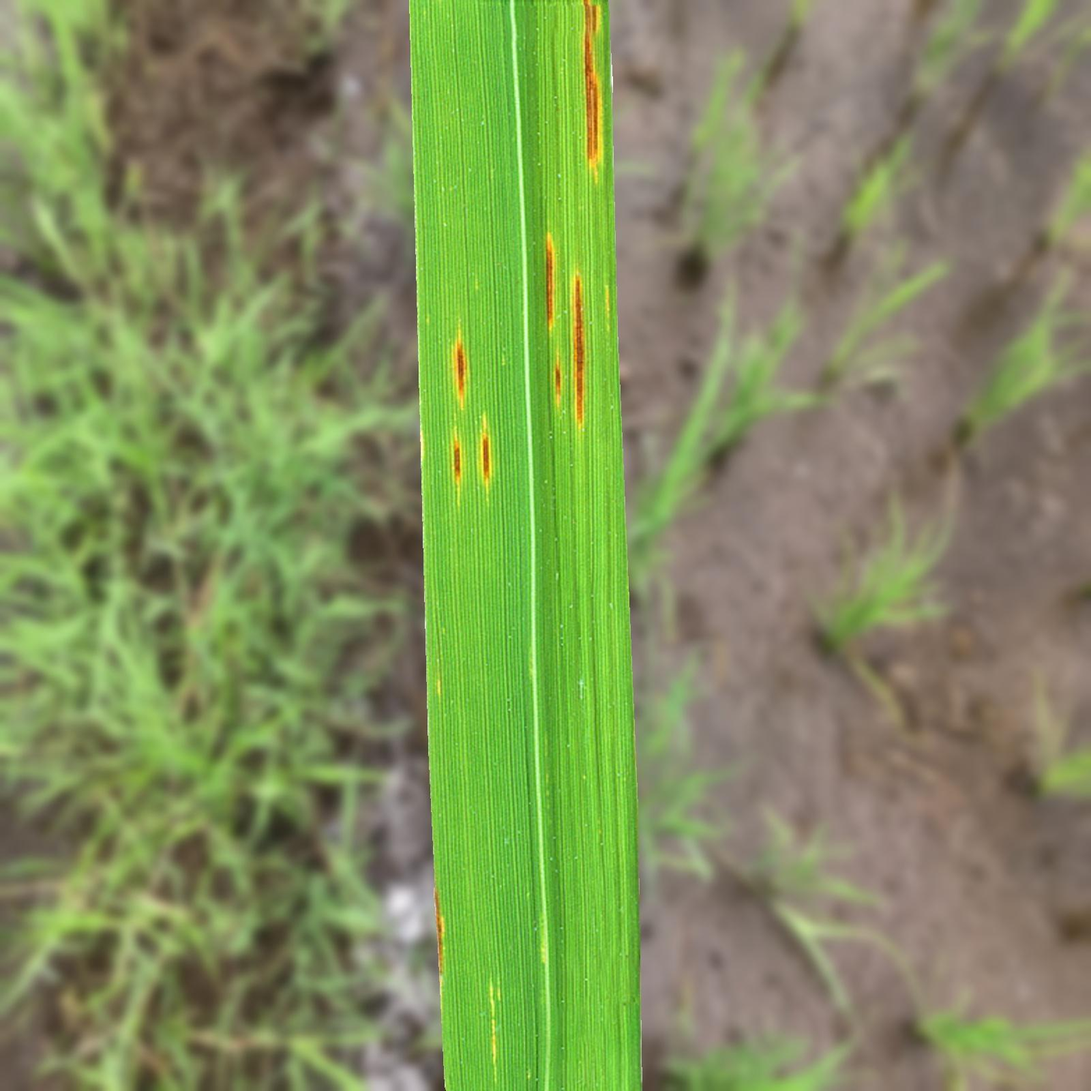LEAF: (409, 0, 642, 1090)
NBS: (582, 0, 601, 187), (573, 273, 586, 427), (434, 888, 445, 988), (454, 333, 466, 411), (480, 416, 492, 486), (546, 233, 554, 332), (555, 352, 562, 406), (453, 437, 461, 483)
